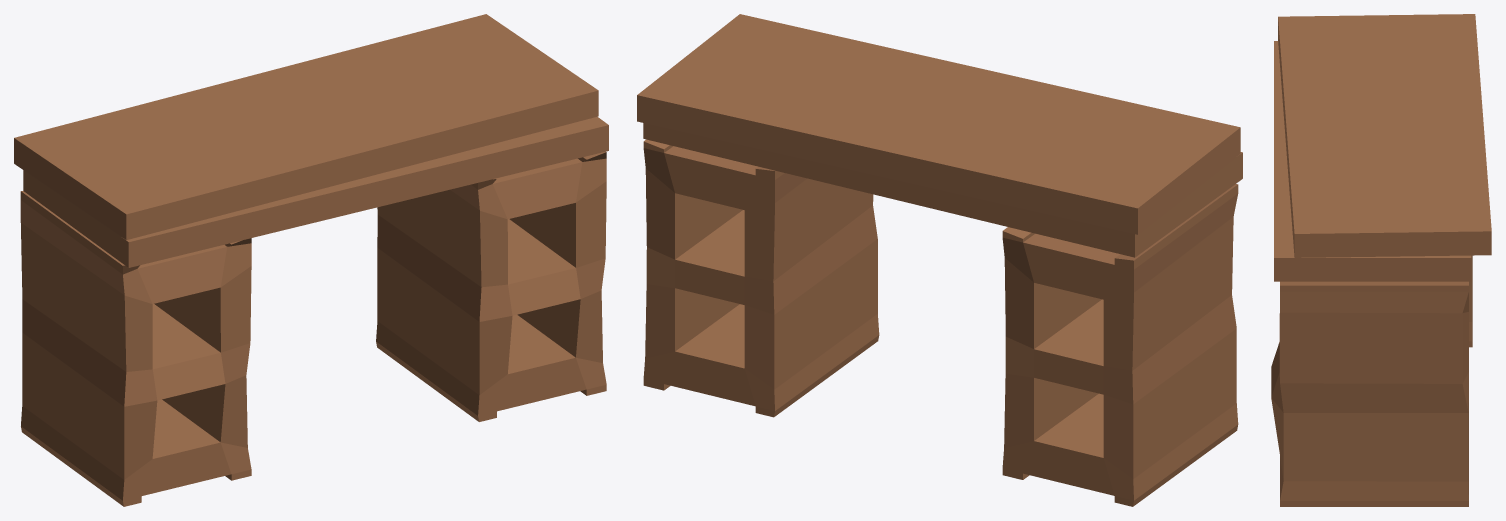
The model's file is Monk_Brick.fbx.
3 renders of one model, left to right at view 1: azimuth 30°, elevation 25°; view 2: azimuth 150°, elevation 25°; view 3: azimuth 270°, elevation 25°, orthographic. The views are drawn at different scales.
Visible parts, largest first — view 1: Monk_Brick_Geo; view 2: Monk_Brick_Geo; view 3: Monk_Brick_Geo.
Boxes of the visible parts, box(x1,y1,x2,y2) form: Monk_Brick_Geo: box(14, 14, 608, 506); Monk_Brick_Geo: box(637, 14, 1242, 506); Monk_Brick_Geo: box(1271, 14, 1491, 506).
Size of the model in its own units: 46.31 by 26.71 by 19.56.
